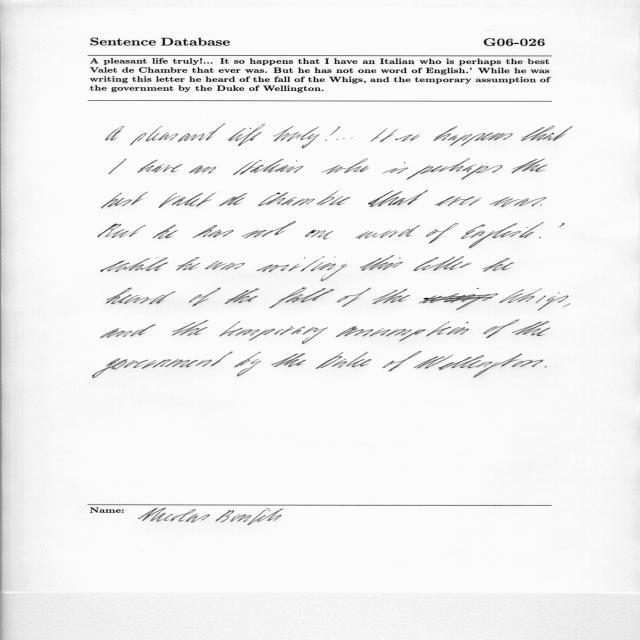word: (93, 352, 233, 379), (414, 353, 543, 378), (336, 322, 469, 342), (219, 321, 328, 344), (256, 257, 347, 282), (461, 222, 544, 249), (407, 158, 503, 180), (130, 124, 225, 146), (418, 288, 498, 310), (499, 288, 569, 311), (433, 126, 513, 146), (274, 126, 341, 148), (258, 191, 351, 206), (270, 288, 335, 308), (106, 288, 176, 305), (233, 159, 303, 175), (101, 257, 168, 272), (368, 191, 428, 207), (316, 352, 372, 369), (242, 222, 296, 239), (356, 225, 421, 239), (413, 256, 472, 271), (159, 193, 216, 208), (227, 124, 265, 146), (382, 352, 422, 372), (101, 192, 148, 209), (521, 126, 573, 141), (101, 324, 156, 338), (322, 159, 370, 175), (98, 223, 146, 238), (426, 223, 459, 244), (360, 255, 403, 271), (234, 352, 261, 377), (484, 320, 520, 338), (337, 288, 371, 307), (138, 159, 183, 173), (189, 288, 221, 307), (172, 320, 209, 336), (512, 321, 551, 336), (490, 197, 547, 207), (373, 289, 411, 304), (192, 225, 234, 238), (225, 288, 259, 304), (512, 159, 548, 174), (272, 353, 307, 367), (435, 196, 481, 206), (483, 258, 514, 272), (152, 224, 178, 239), (371, 128, 398, 142), (219, 193, 247, 206), (205, 261, 245, 270), (176, 257, 200, 271), (382, 162, 408, 174), (106, 126, 125, 141), (305, 230, 333, 240), (109, 159, 127, 174), (189, 165, 216, 174), (395, 134, 420, 142), (337, 137, 353, 140), (563, 303, 570, 307), (559, 223, 565, 227), (541, 204, 543, 206), (545, 366, 547, 368), (325, 140, 328, 141), (539, 237, 541, 238)
